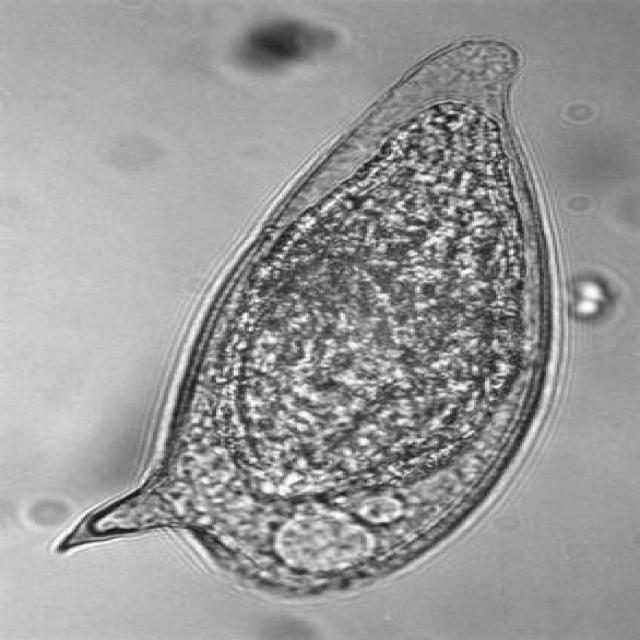Schistosoma: (39, 28, 596, 609)
